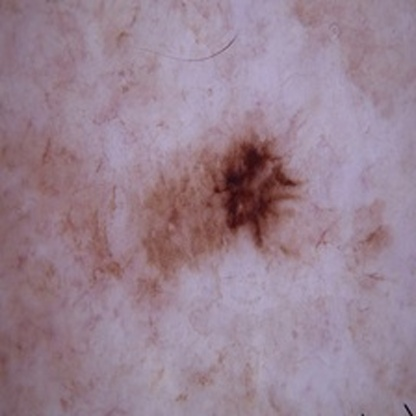malignant: (206, 143, 299, 243)
